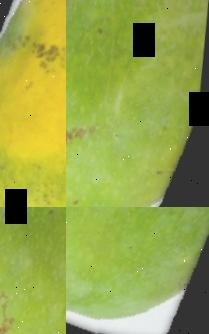Ripe: (0, 0, 66, 207)
Unripe: (66, 0, 209, 207), (66, 207, 209, 334), (0, 207, 66, 334)
